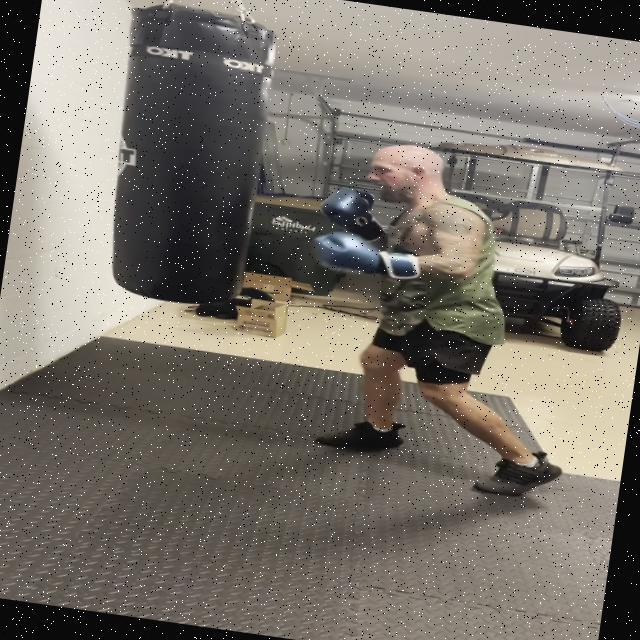bag: (103, 0, 286, 317)
hook: (296, 127, 518, 310)
